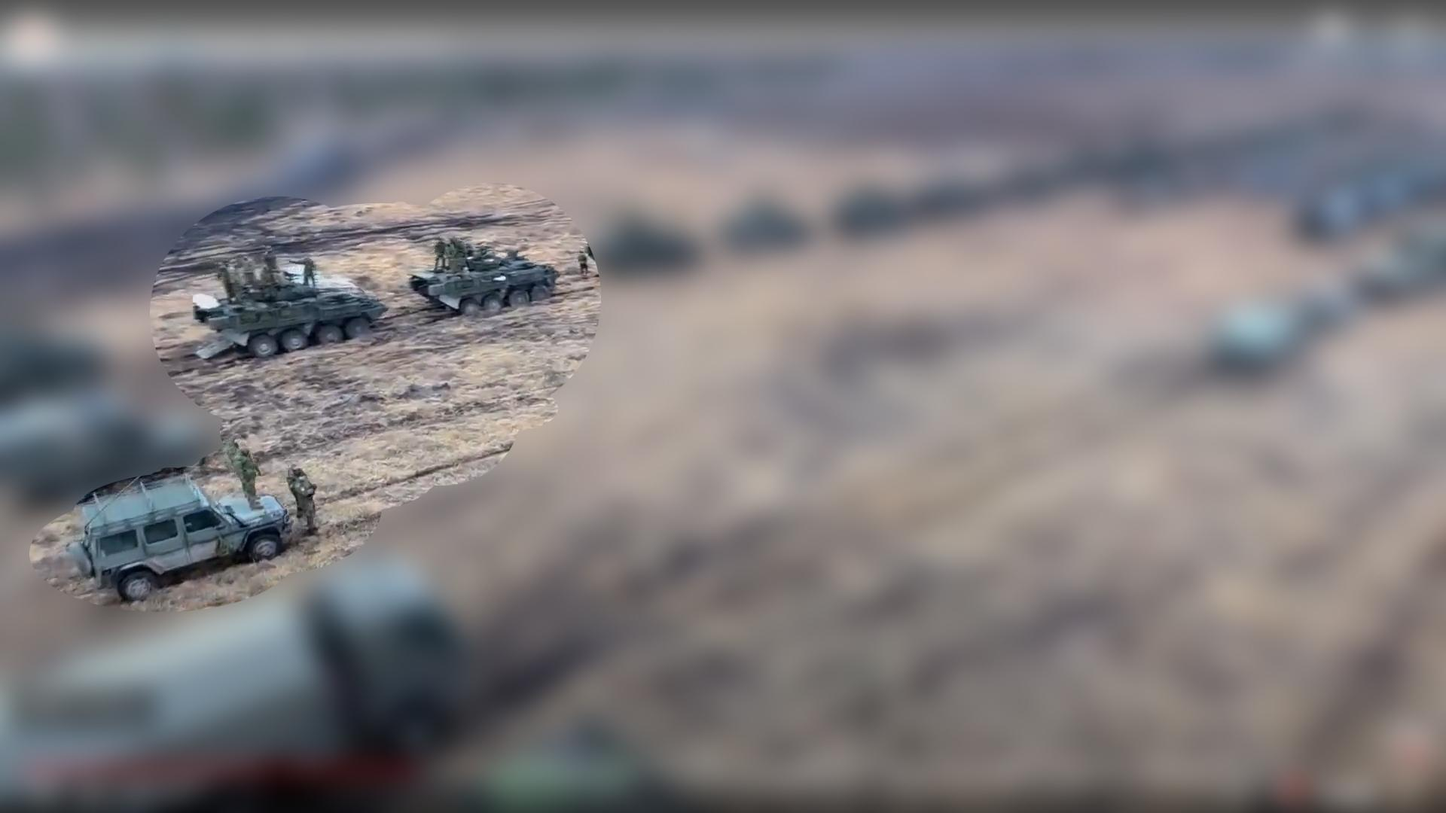armored_car: (66, 474, 295, 608), (185, 253, 387, 360), (404, 246, 562, 318)
